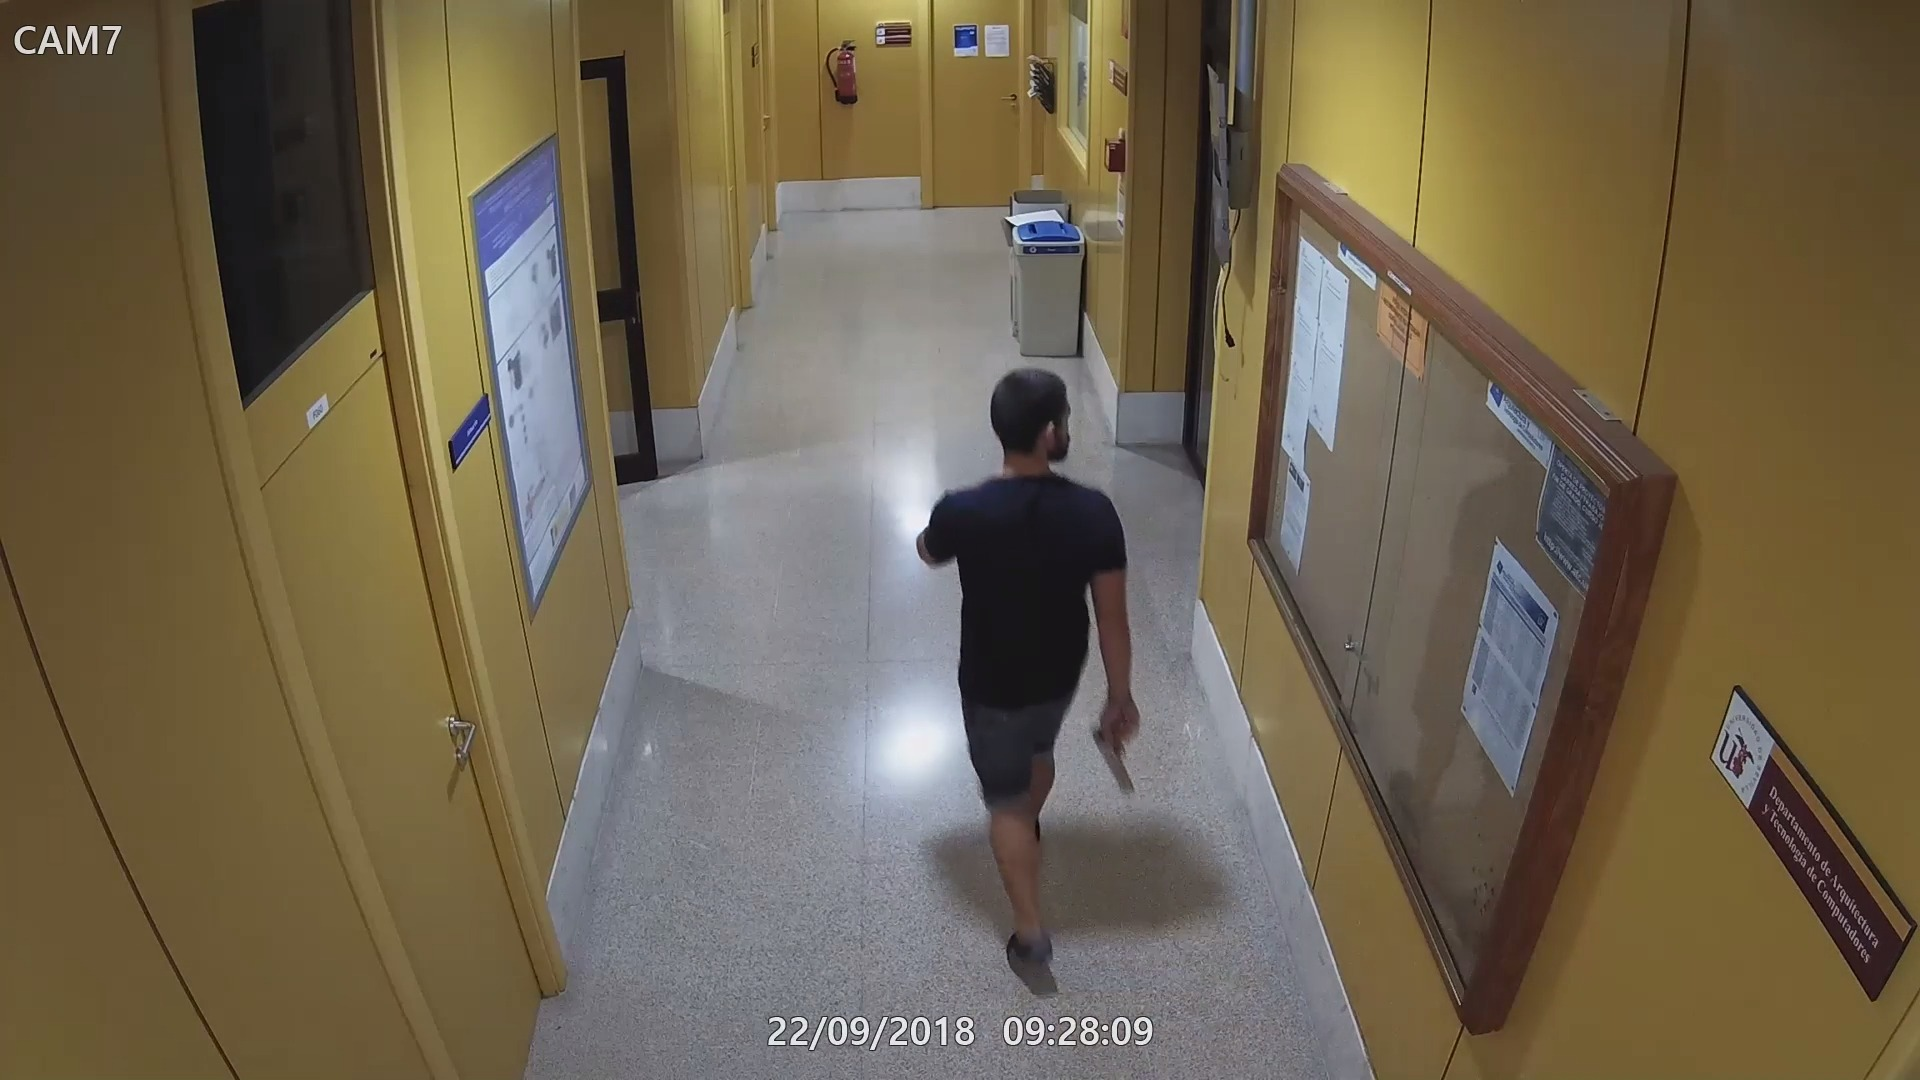Handgun: (1093, 712, 1145, 794)
